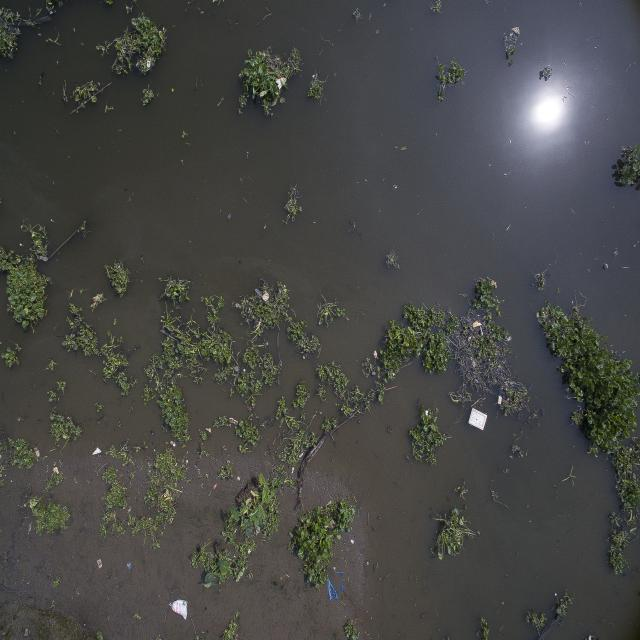plastic: (320, 569, 351, 609), (465, 404, 492, 436), (168, 597, 192, 623), (274, 73, 292, 93), (138, 56, 157, 74)
